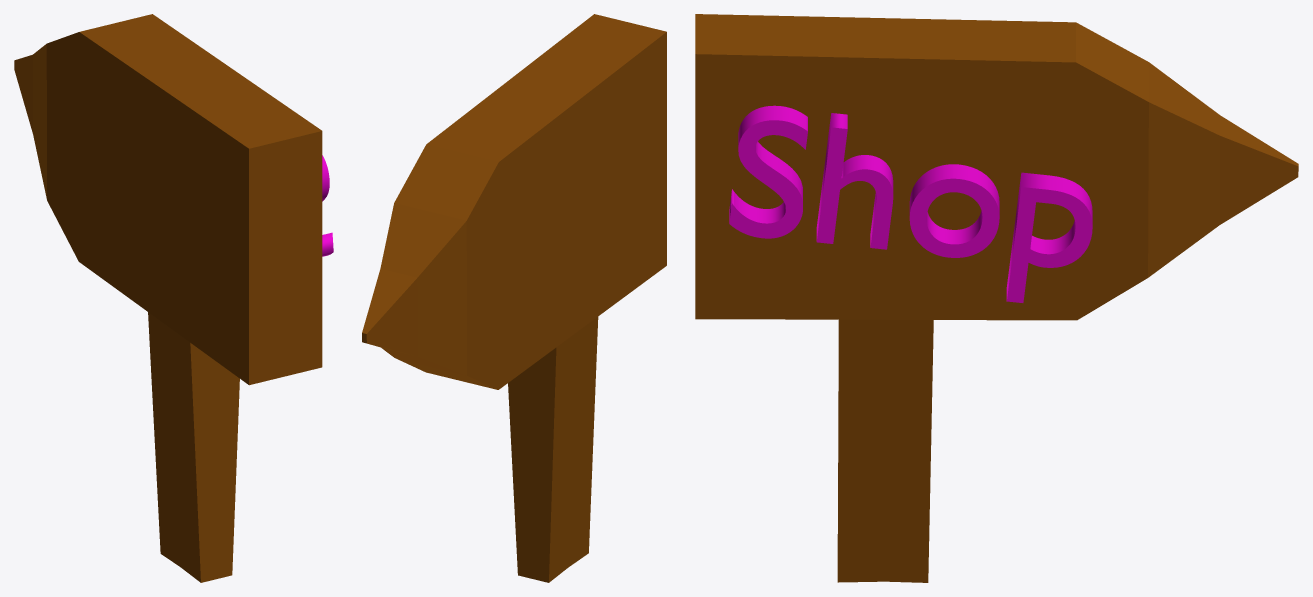
The model's file is SHop Sign.fbx.
3 views of the same model, side by side, from view 1: azimuth 30°, elevation 25°; view 2: azimuth 150°, elevation 25°; view 3: azimuth 270°, elevation 25° (orthographic). The views are drawn at different scales.
Visible parts, largest first — view 1: Cube, Text; view 2: Cube; view 3: Cube, Text.
Part boxes in pixels (x1,y1,x2,y2): Cube: (14,14,322,582); Text: (322,155,333,256); Cube: (362,14,666,582); Cube: (695,14,1298,582); Text: (729,105,1092,302).
Bounding box in the file's own units: 68.96 × 320 × 322.
